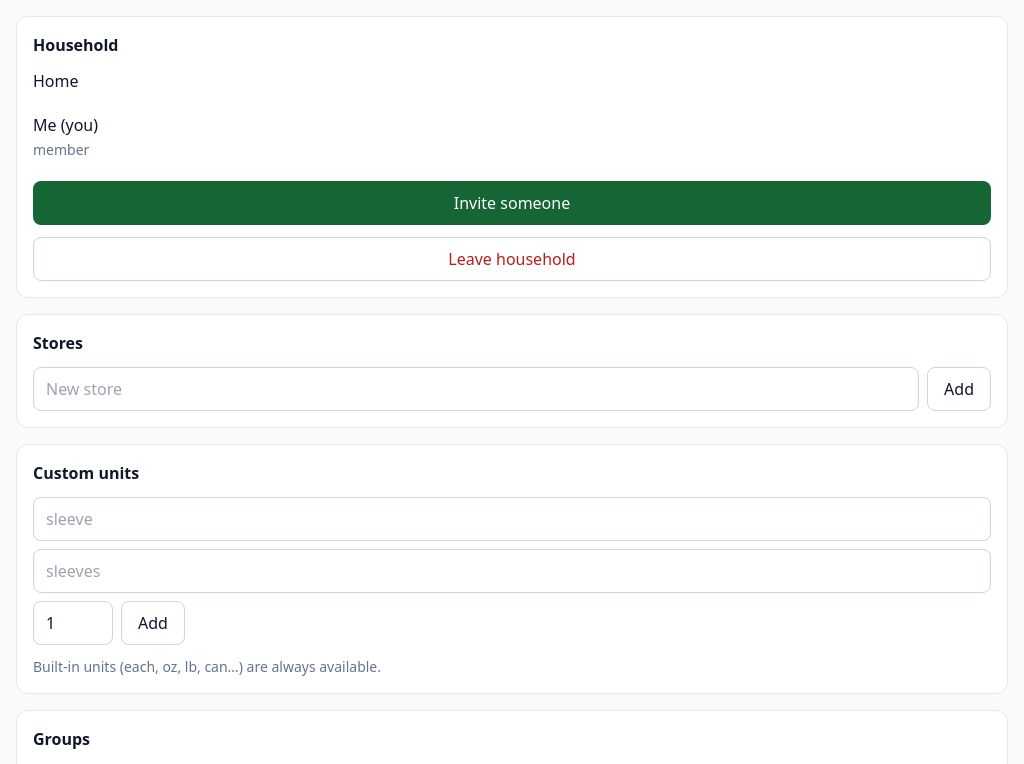
Test: Settings custom units › an invalid create step (0.001) is rejected locally: no POST, a message is shown
Expected: the text "Home" is shown, [33, 70, 78, 92]
Type "case" into the field named "Unit name" at (512, 519), box [33, 497, 991, 541]
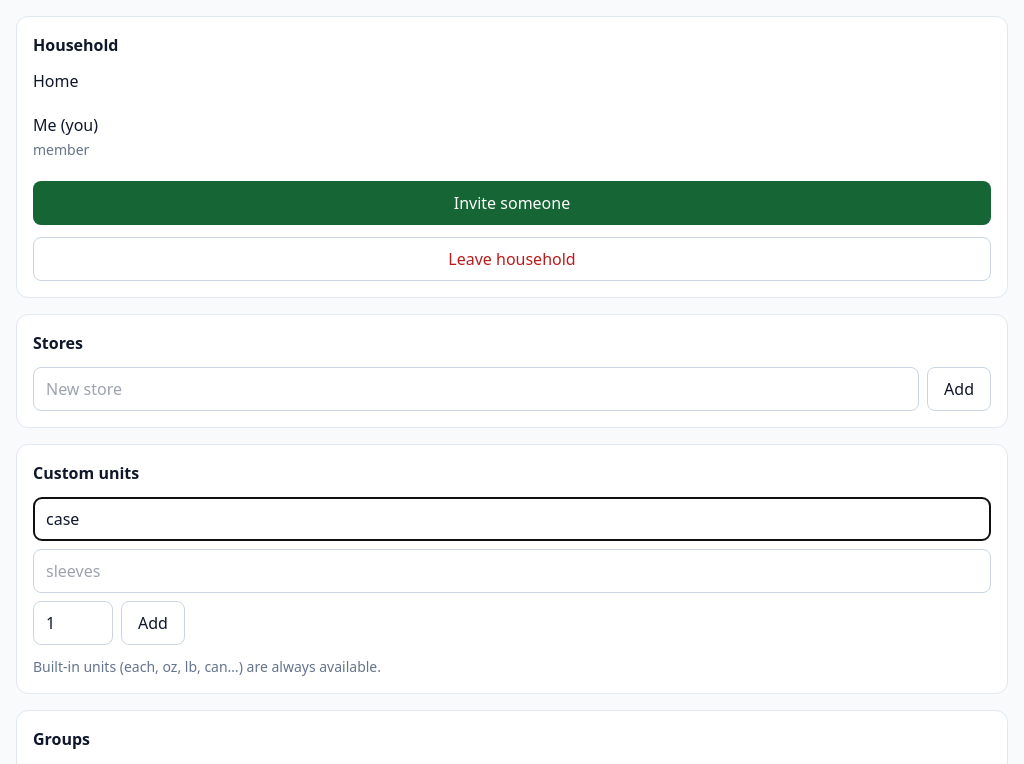
Type "0.001" into the number field named "Step" at (73, 623), box [33, 601, 113, 645]
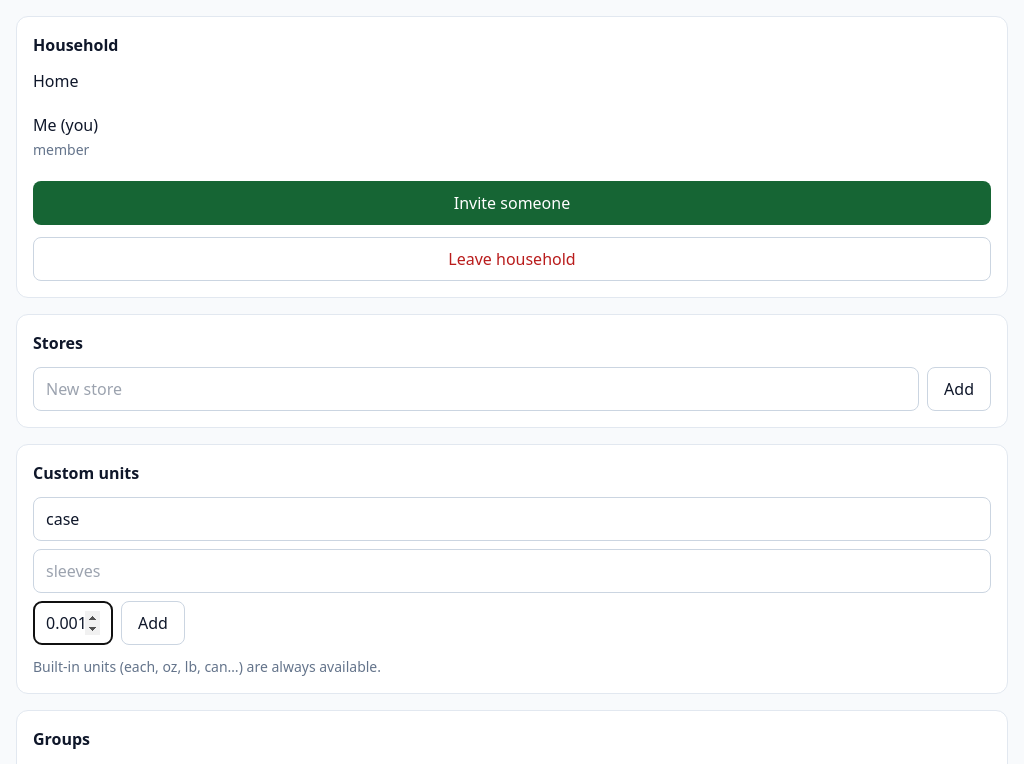
Click the button "Add" below "Custom units" at (153, 623), box [121, 601, 185, 645]
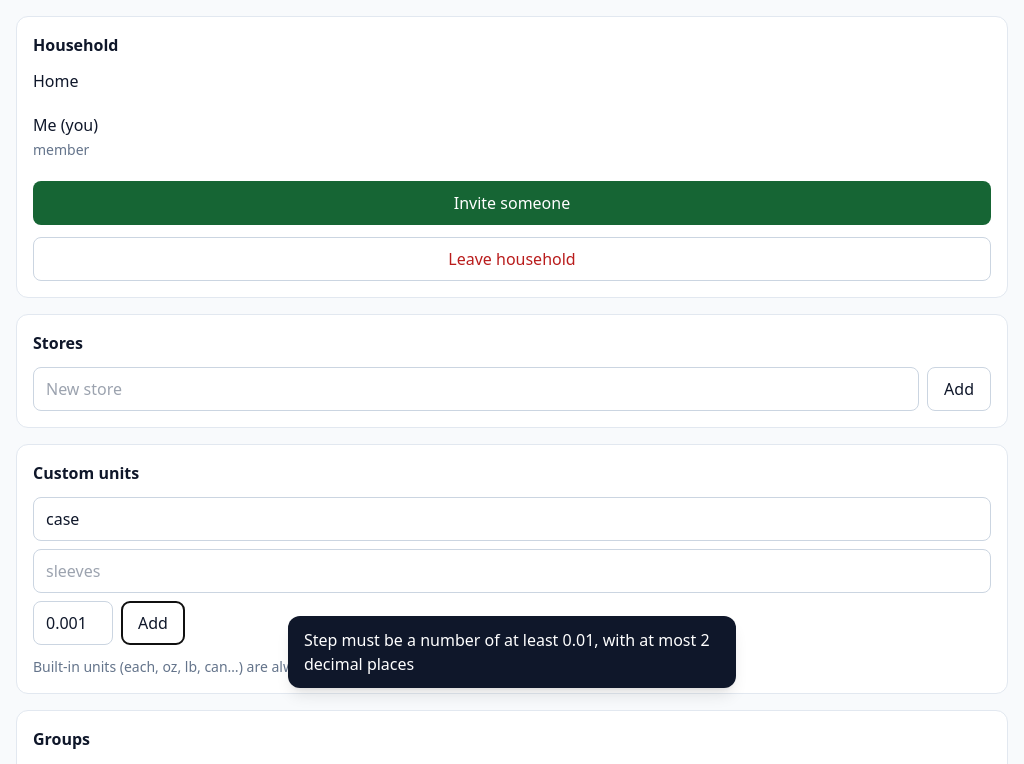
Expected: the text "Step" is shown, [304, 629, 710, 675]
